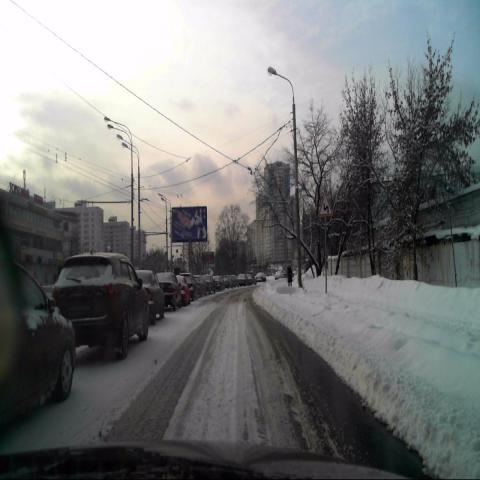1_12_2: (318, 194, 332, 218)
